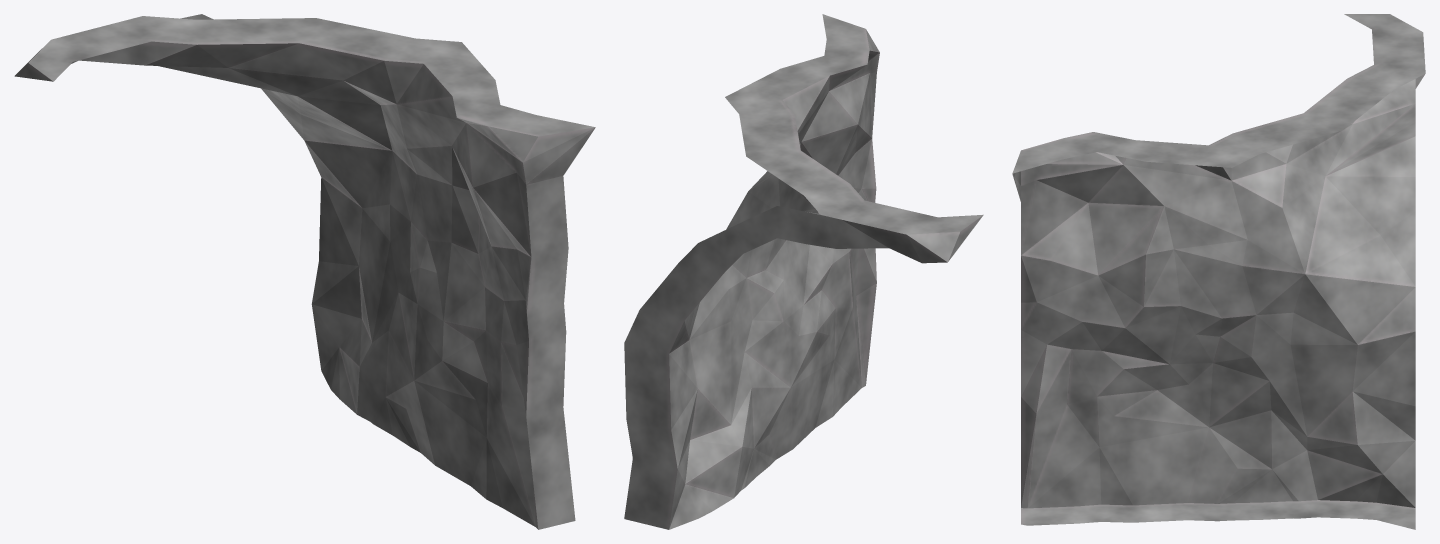
The model's file is WallToRoofCorner1.gltf.
The picture shows the model from 3 angles, left to right: view 1: azimuth 30°, elevation 25°; view 2: azimuth 150°, elevation 25°; view 3: azimuth 270°, elevation 25°; orthographic projection. The views are drawn at different scales.
Visible parts, largest first — view 1: WallToRoofCorner1; view 2: WallToRoofCorner1; view 3: WallToRoofCorner1.
Boxes of the visible parts, x1=… form: WallToRoofCorner1: x1=14, y1=14, x2=595, y2=529; WallToRoofCorner1: x1=624, y1=14, x2=983, y2=529; WallToRoofCorner1: x1=1012, y1=14, x2=1425, y2=529.
Size of the model in its own units: 4.79 by 5 by 5.24.
Materials: 1 (1 with a texture image).
